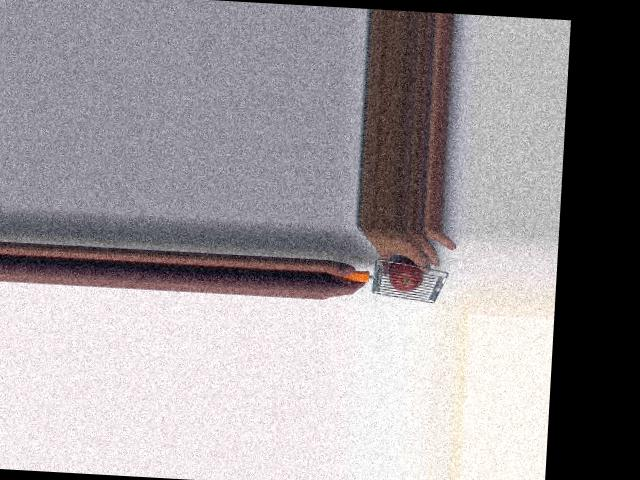tomato: (386, 258, 423, 292)
